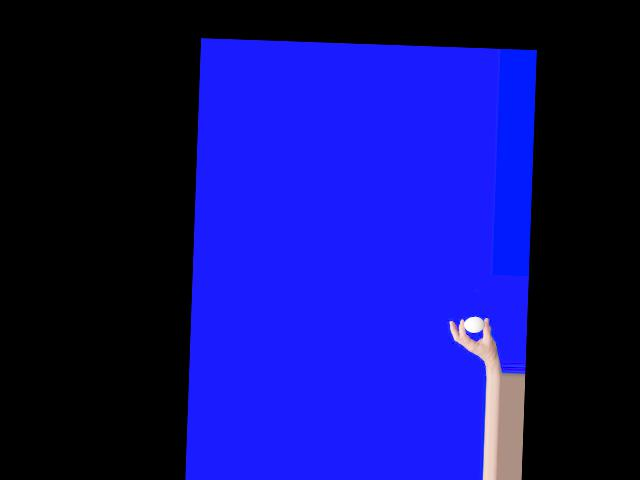egg: (463, 316, 484, 333)
